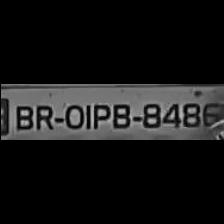0: (57, 97, 82, 129)
4: (160, 100, 180, 128)
6: (200, 99, 222, 127)
8: (136, 100, 162, 130), (179, 100, 201, 128)
B: (106, 101, 132, 129), (12, 102, 32, 131)
I: (82, 97, 90, 129)
P: (88, 99, 108, 131)
R: (32, 102, 54, 131)
